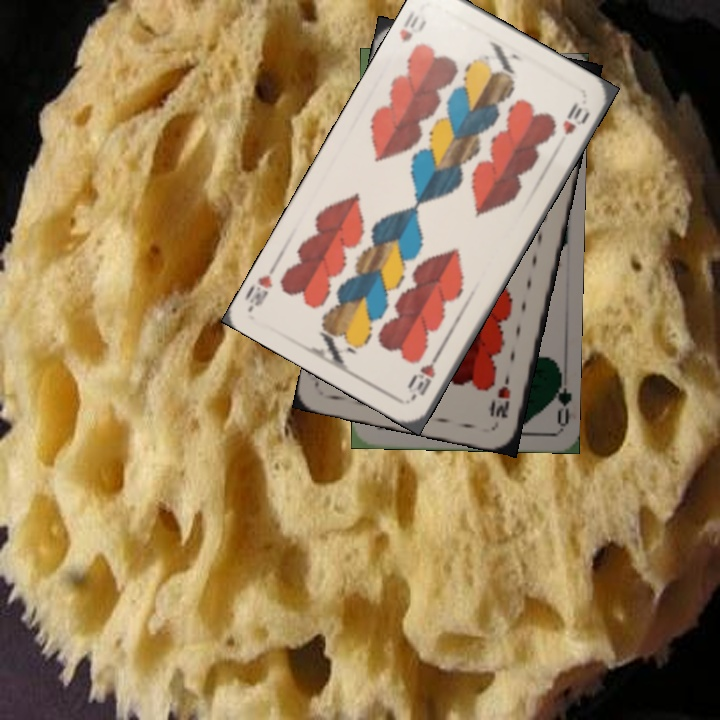GO: (545, 368, 572, 427)
H10: (406, 347, 443, 402), (395, 6, 429, 45), (488, 371, 513, 421)
